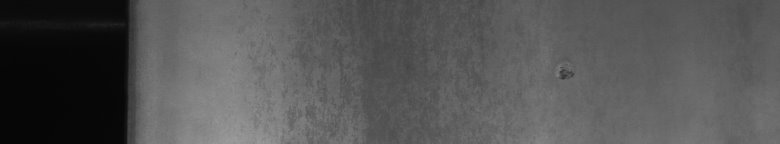fi: (555, 62, 576, 84)
